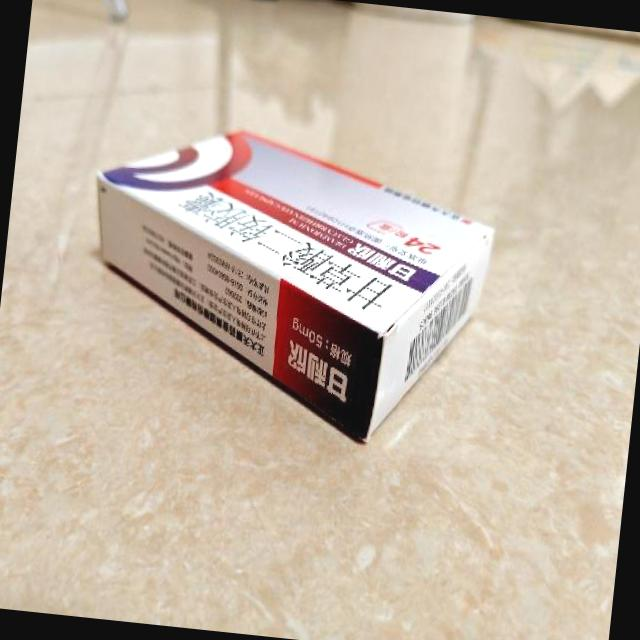box: (71, 113, 502, 456)
